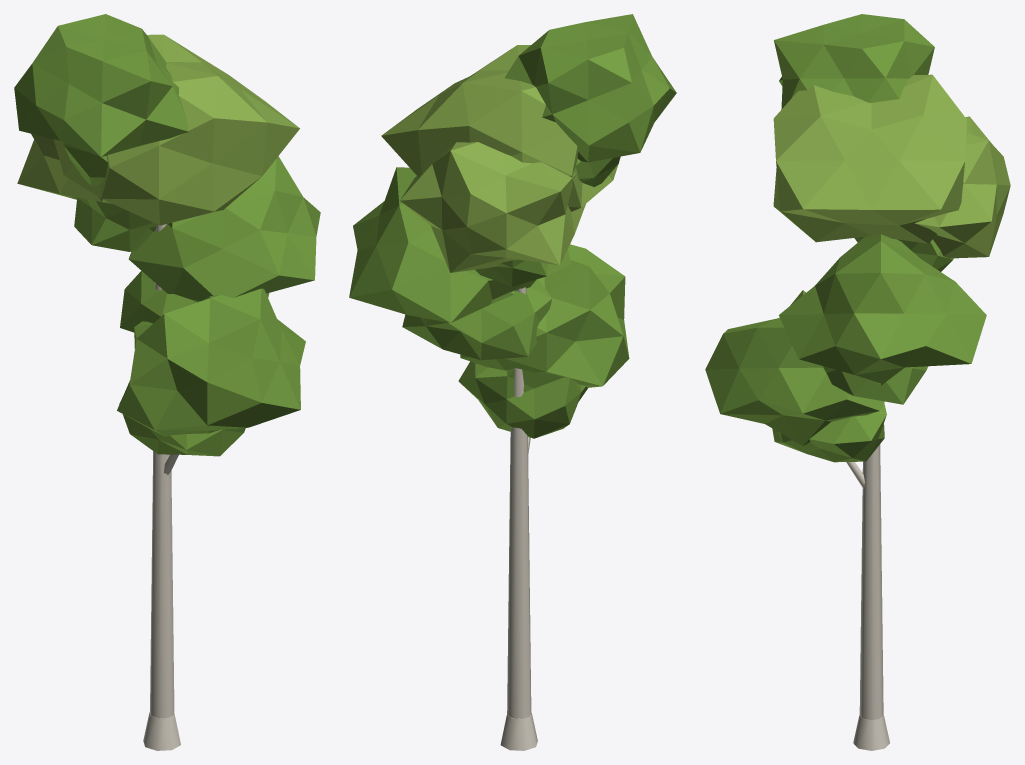
The model's file is tree-birch.glb.
3 renders of one model, left to right at view 1: azimuth 30°, elevation 25°; view 2: azimuth 150°, elevation 25°; view 3: azimuth 270°, elevation 25°, orthographic. The views are drawn at different scales.
Parts seen in each view (by area): view 1: leaves-1-1, leaves-top, leaves-4-1, leaves-2-1, trunk, leaves-3-2, leaves-3-1, leaves-1-2, leaves-2-2, leaves-4-2; view 2: leaves-3-1, leaves-4-1, leaves-top, leaves-2-1, leaves-1-1, trunk, leaves-2-2, leaves-1-2, leaves-3-2, leaves-4-2; view 3: leaves-top, leaves-2-1, leaves-1-1, leaves-4-1, trunk, leaves-3-1, leaves-1-2, leaves-2-2, leaves-3-2.
Boxes of the visible parts, bbox=[...] form: leaves-1-1: bbox=[117, 288, 305, 436]; leaves-top: bbox=[54, 34, 299, 225]; leaves-4-1: bbox=[14, 14, 189, 156]; leaves-2-1: bbox=[128, 156, 320, 301]; trunk: bbox=[143, 224, 180, 750]; leaves-3-2: bbox=[74, 197, 157, 251]; leaves-3-1: bbox=[16, 108, 111, 203]; leaves-1-2: bbox=[119, 401, 245, 456]; leaves-2-2: bbox=[120, 271, 269, 332]; leaves-4-2: bbox=[63, 142, 107, 185]; leaves-3-1: bbox=[400, 142, 585, 272]; leaves-4-1: bbox=[504, 14, 676, 162]; leaves-top: bbox=[381, 45, 620, 211]; leaves-2-1: bbox=[349, 167, 536, 322]; leaves-1-1: bbox=[460, 244, 629, 387]; trunk: bbox=[500, 287, 537, 750]; leaves-2-2: bbox=[402, 279, 552, 360]; leaves-1-2: bbox=[458, 361, 587, 438]; leaves-3-2: bbox=[475, 249, 571, 286]; leaves-4-2: bbox=[576, 156, 619, 186]; leaves-top: bbox=[773, 74, 966, 243]; leaves-2-1: bbox=[779, 234, 986, 385]; leaves-1-1: bbox=[705, 290, 884, 445]; leaves-4-1: bbox=[774, 14, 934, 109]; trunk: bbox=[853, 444, 889, 750]; leaves-3-1: bbox=[915, 116, 1010, 258]; leaves-1-2: bbox=[772, 403, 886, 462]; leaves-2-2: bbox=[823, 366, 927, 404]; leaves-3-2: bbox=[854, 236, 953, 271].
Bounding box in the file's own units: 3.14 × 7.35 × 2.97.
